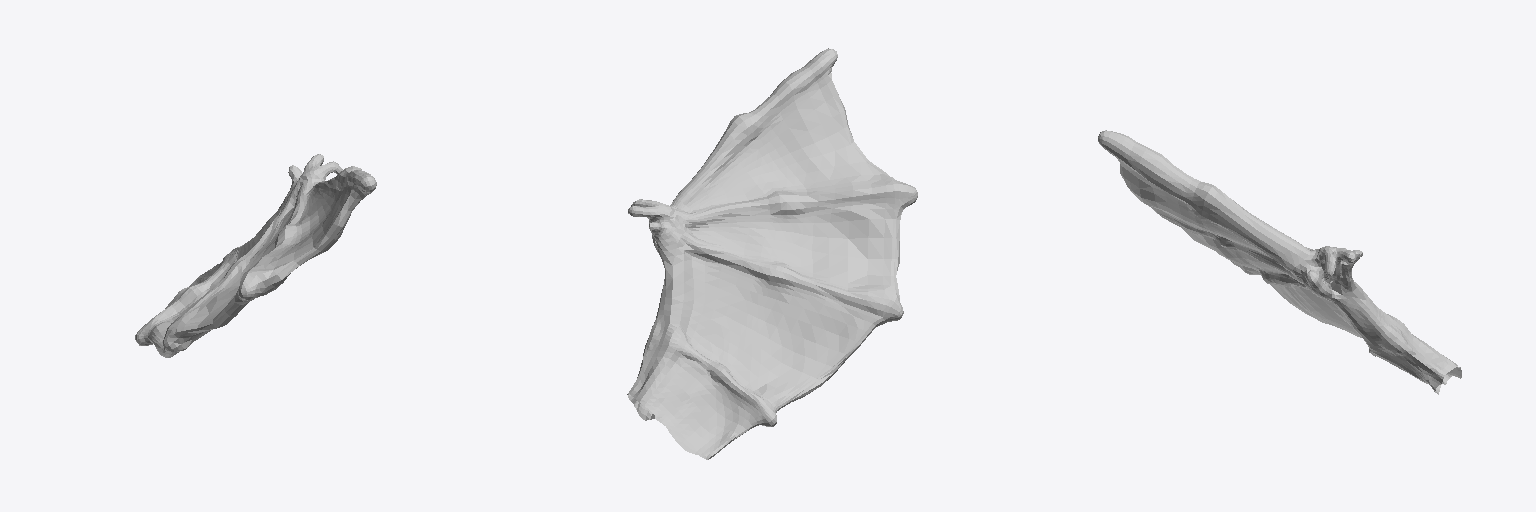
File: alaDer.obj
The picture shows the model from 3 angles: view 1: azimuth 30°, elevation 25°; view 2: azimuth 150°, elevation 25°; view 3: azimuth 270°, elevation 25°; orthographic projection.
Visible parts, largest first — view 1: 17174_Tiamat_new.002__17174_Tiamat_v1default; view 2: 17174_Tiamat_new.002__17174_Tiamat_v1default; view 3: 17174_Tiamat_new.002__17174_Tiamat_v1default.
Part boxes in pixels (x1,y1,x2,y2): 17174_Tiamat_new.002__17174_Tiamat_v1default: (135, 154, 376, 357); 17174_Tiamat_new.002__17174_Tiamat_v1default: (627, 48, 917, 459); 17174_Tiamat_new.002__17174_Tiamat_v1default: (1098, 130, 1461, 394).
Size of the model in its own units: 6.31 by 7.3 by 8.79.